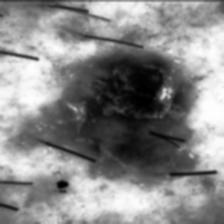Potentially Malignant Skin Tumors: (54, 52, 208, 174)
